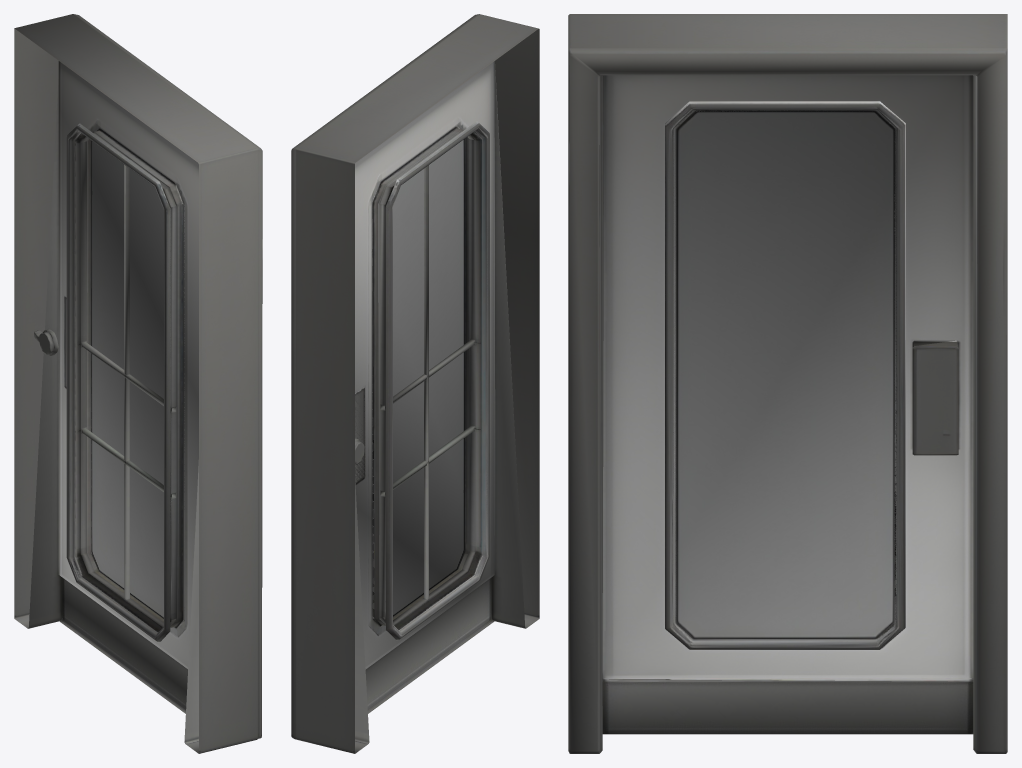
The model's file is PPE_Room_Door.fbx.
The picture shows the model from 3 angles, left to right: view 1: azimuth 30°, elevation 25°; view 2: azimuth 150°, elevation 25°; view 3: azimuth 270°, elevation 25°; orthographic projection. The views are drawn at different scales.
Visible parts, largest first — view 1: tripo_part_5, tripo_part_3, tripo_part_13, tripo_part_4; view 2: tripo_part_5, tripo_part_3, tripo_part_13, tripo_part_20, tripo_part_7; view 3: tripo_part_5, tripo_part_13, tripo_part_3, tripo_part_6.
Part boxes in pixels (<box>): tripo_part_5: <box>14,14,262,753</box>; tripo_part_3: <box>66,123,184,642</box>; tripo_part_13: <box>59,577,187,713</box>; tripo_part_4: <box>34,328,58,355</box>; tripo_part_5: <box>291,14,539,753</box>; tripo_part_3: <box>372,121,489,640</box>; tripo_part_13: <box>365,577,494,713</box>; tripo_part_20: <box>372,219,379,626</box>; tripo_part_7: <box>355,387,365,483</box>; tripo_part_5: <box>568,14,1007,753</box>; tripo_part_13: <box>602,679,973,734</box>; tripo_part_3: <box>665,101,905,649</box>; tripo_part_6: <box>912,340,958,455</box>.
Bounding box in the file's own units: 0.1057 × 0.9256 × 0.5245.
